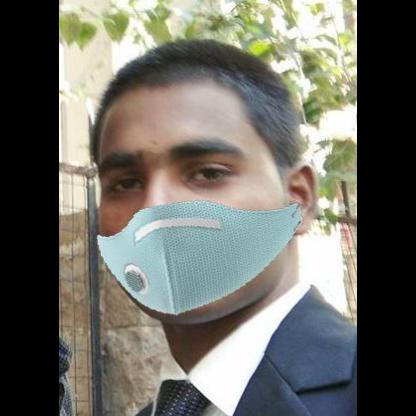FFP Mask: (96, 116, 286, 294)
